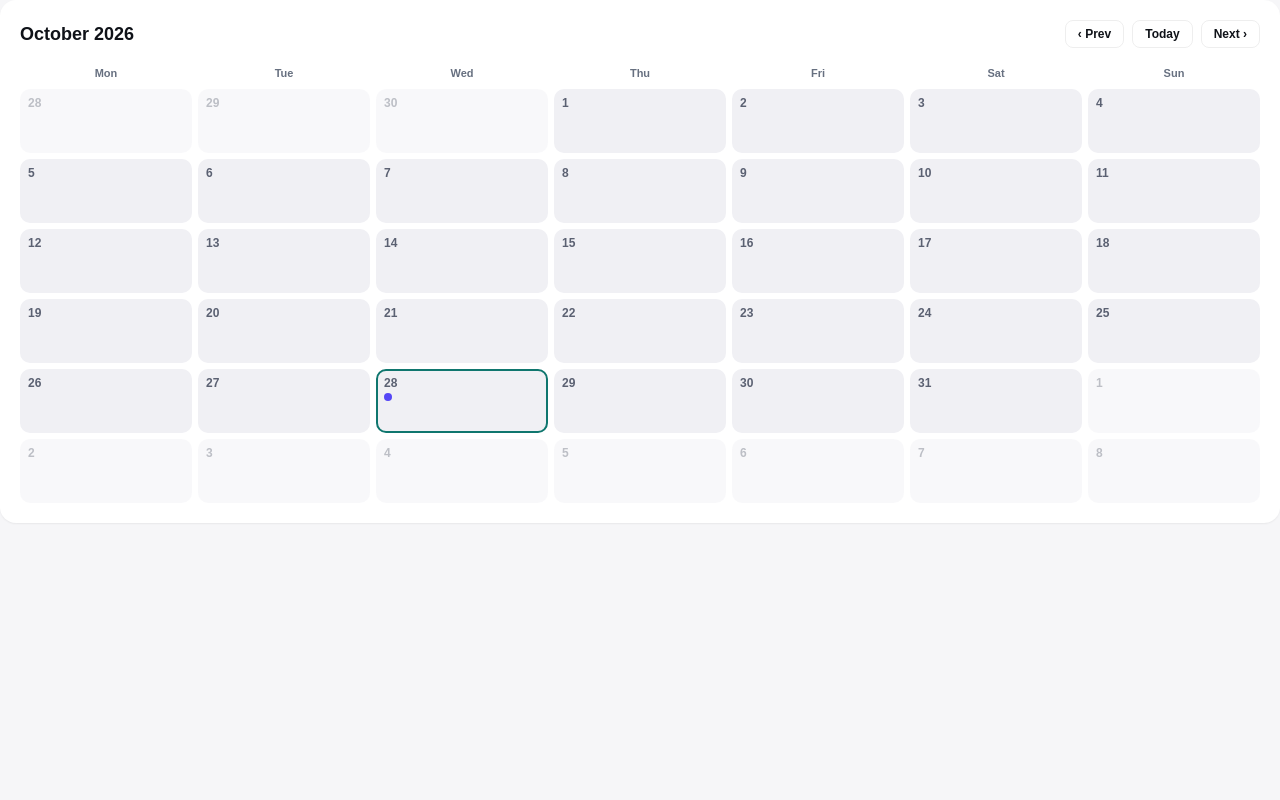
it: SubscriptionsCalendar filter › only marks the occurrences the filter lets through
The width and height of the screenshot is (1280, 800).
Click the 2nd cell "28": (462, 401) [376, 369, 548, 433]
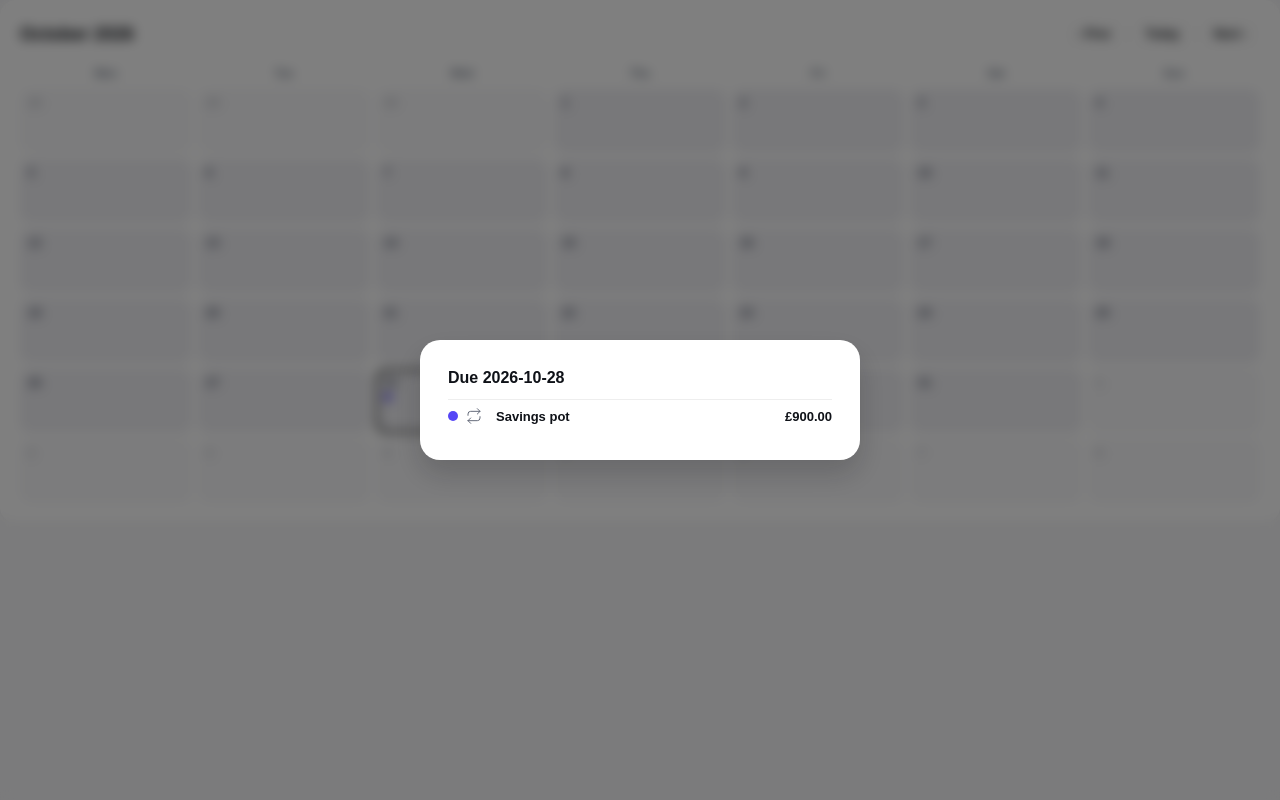
Expected: the text "Savings pot" is shown, [448, 408, 570, 424]
